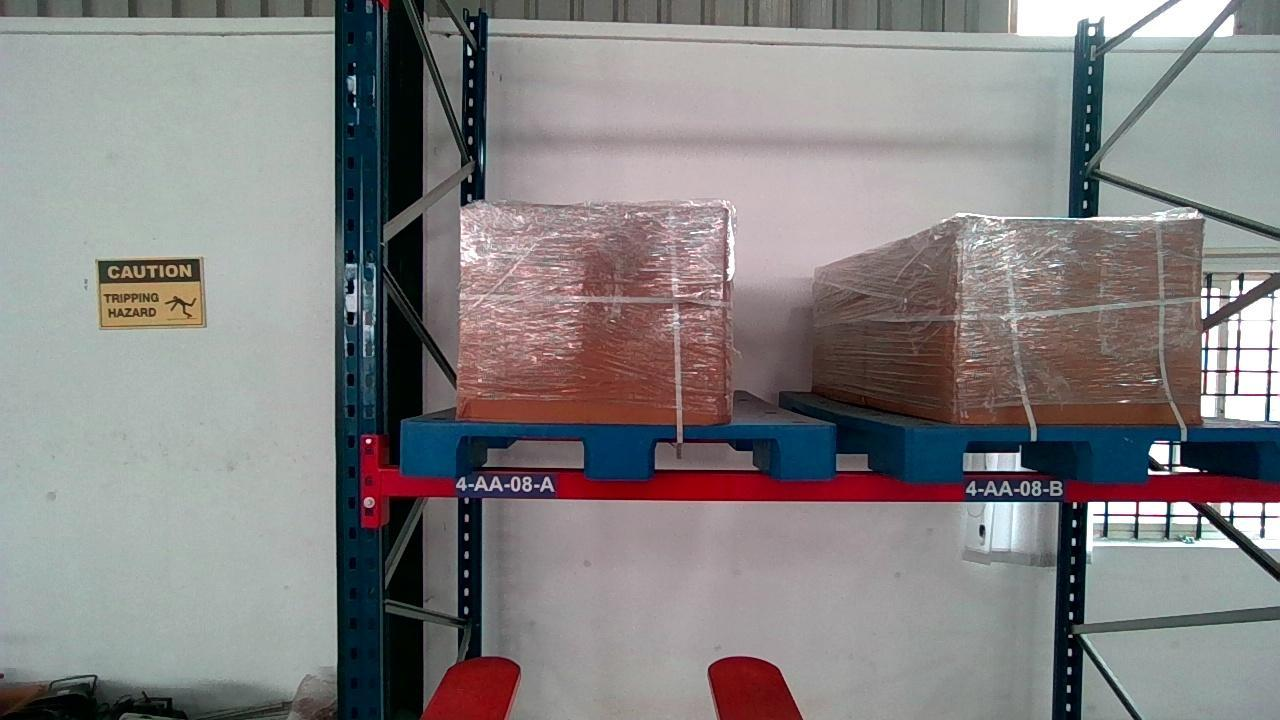h_rack: (382, 469, 1277, 502)
small_pallet: (399, 422, 834, 477), (908, 427, 1277, 480)
